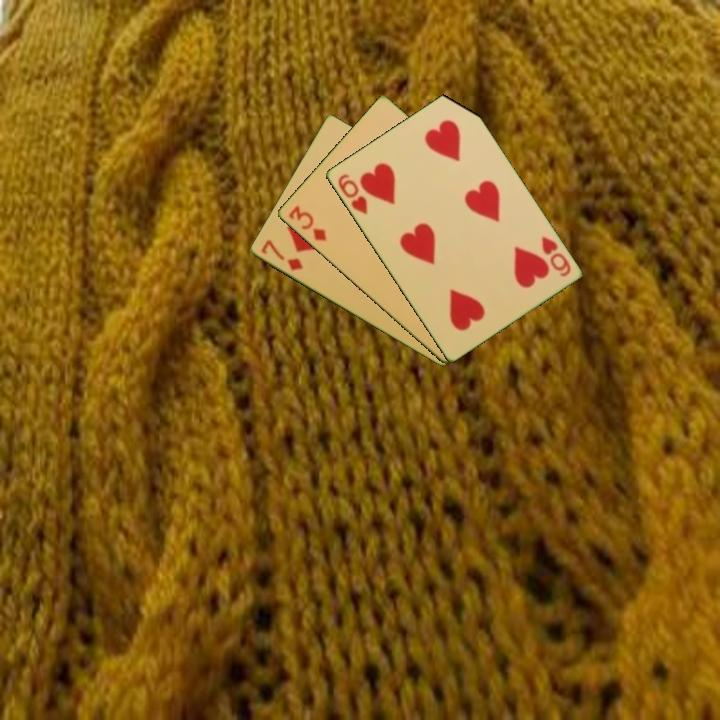3d: (284, 202, 329, 244)
6h: (334, 170, 370, 217), (537, 233, 573, 280)
7d: (257, 236, 305, 274)
